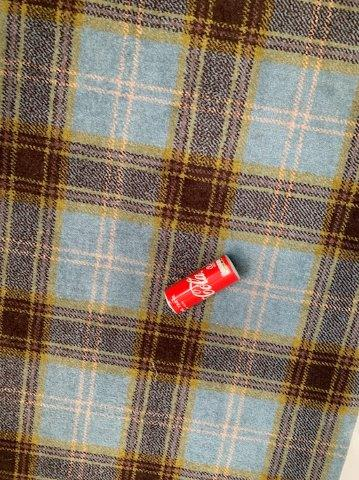kaleng: (166, 256, 240, 313)
